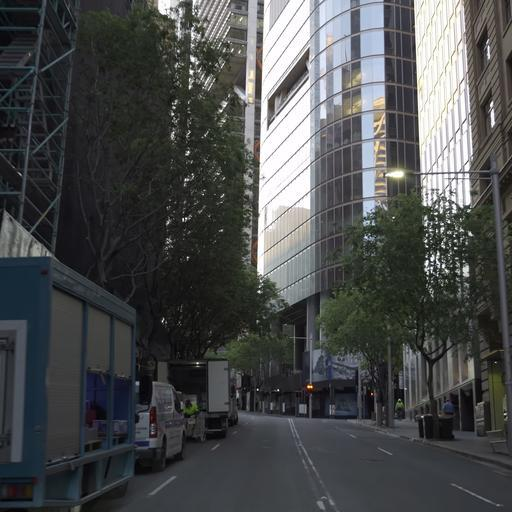Street light: (383, 165, 511, 454)
